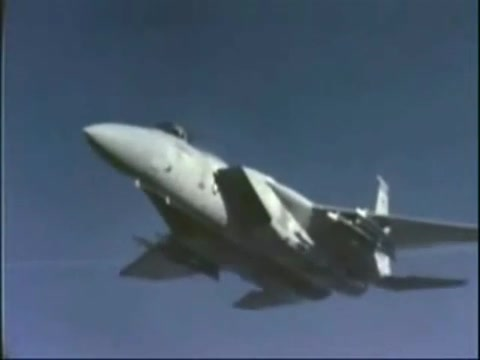aeroplane: (83, 121, 480, 312)
